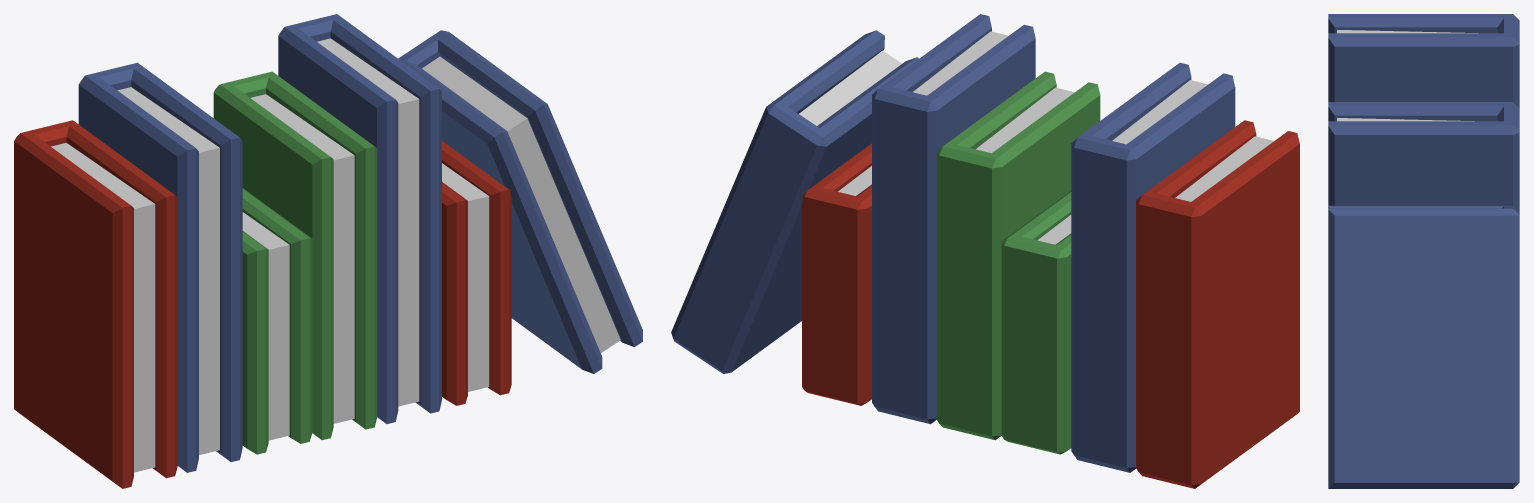
Rendered from bookA.gltf.
3 renders of one model, left to right at view 1: azimuth 30°, elevation 25°; view 2: azimuth 150°, elevation 25°; view 3: azimuth 270°, elevation 25°, orthographic. The views are drawn at different scales.
Parts seen in each view (by area): view 1: Books A; view 2: Books A; view 3: Books A.
Part boxes in pixels (x1,y1,x2,y2): Books A: (14,14,642,488); Books A: (671,14,1299,488); Books A: (1328,14,1519,488).
Bounding box in the file's own units: 2.55 × 1.48 × 0.8815.
